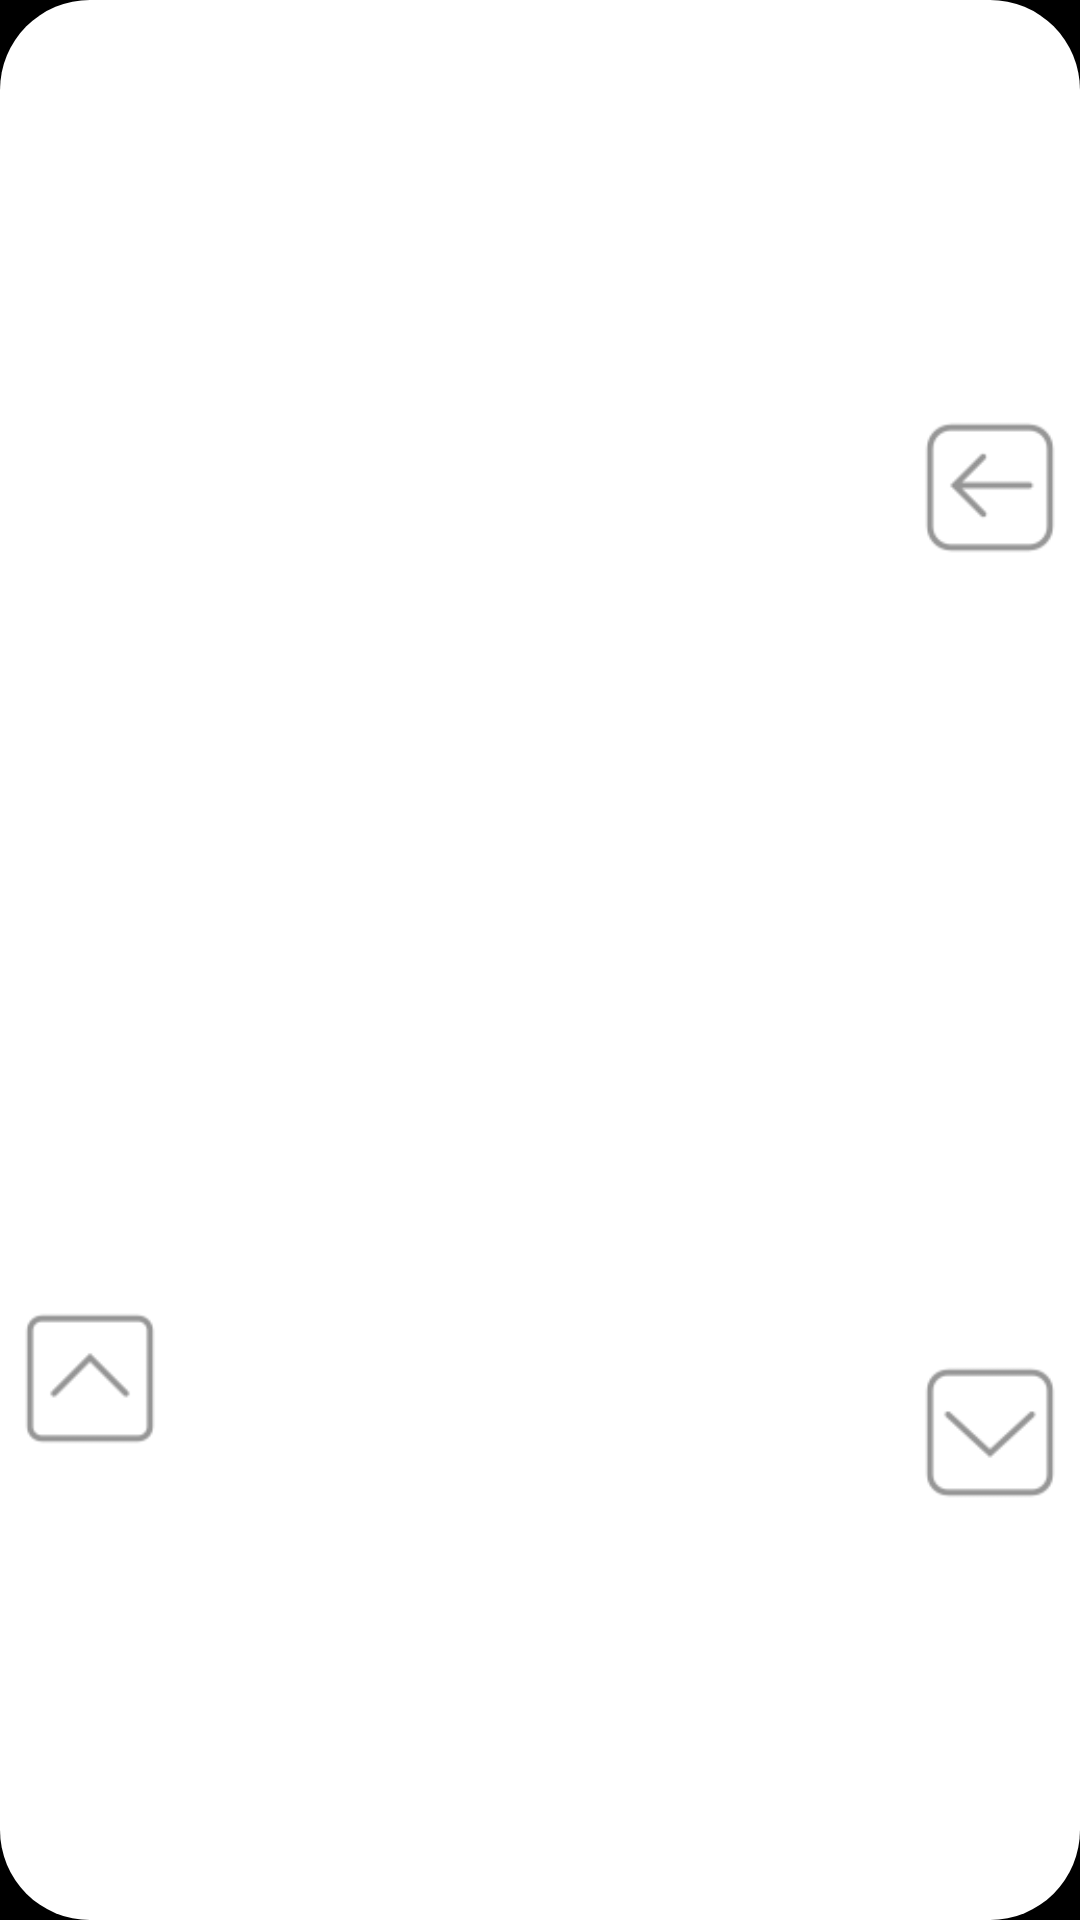

Where icons sit on this 1080 x 1920 app screen, as box=[x1, y1, x2, y2]:
down: box=[926, 1369, 1054, 1496]
square back: box=[926, 424, 1054, 551]
